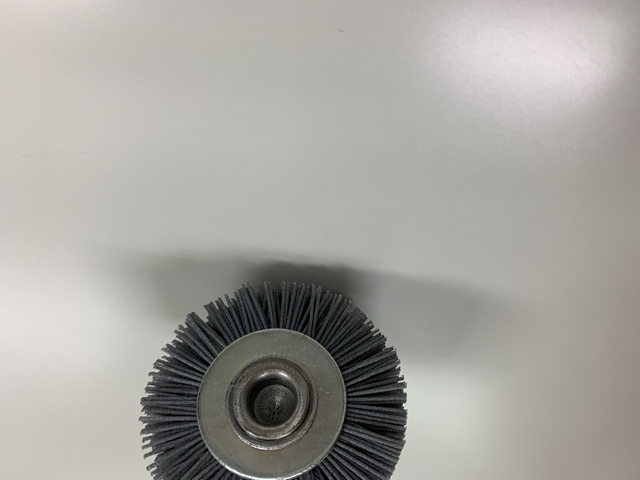Wheel Brush: (143, 274, 405, 480), (125, 295, 406, 480)
